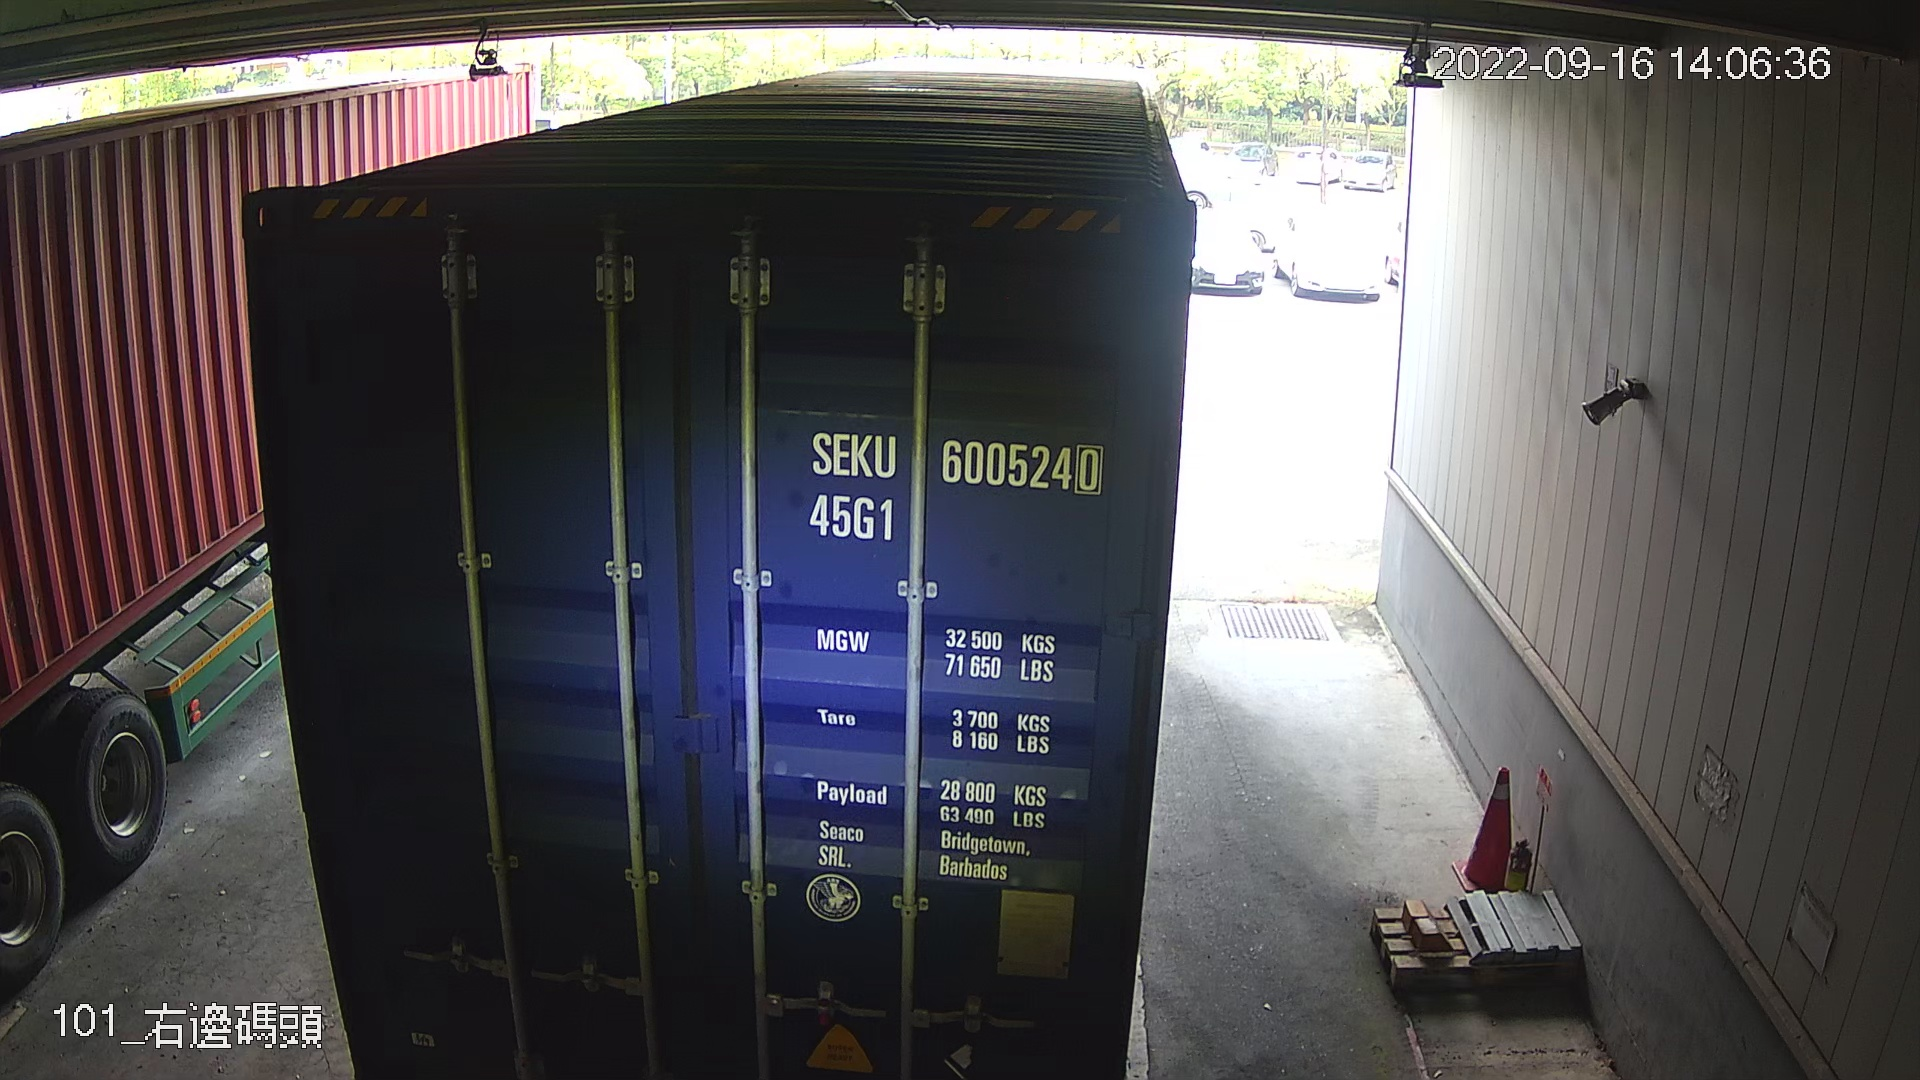container: (789, 417, 1116, 553)
